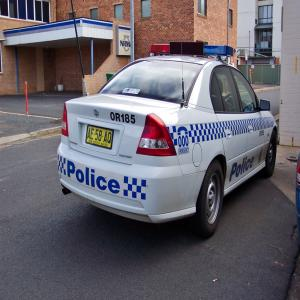Vehicle-registration-plate: (87, 121, 113, 155)
